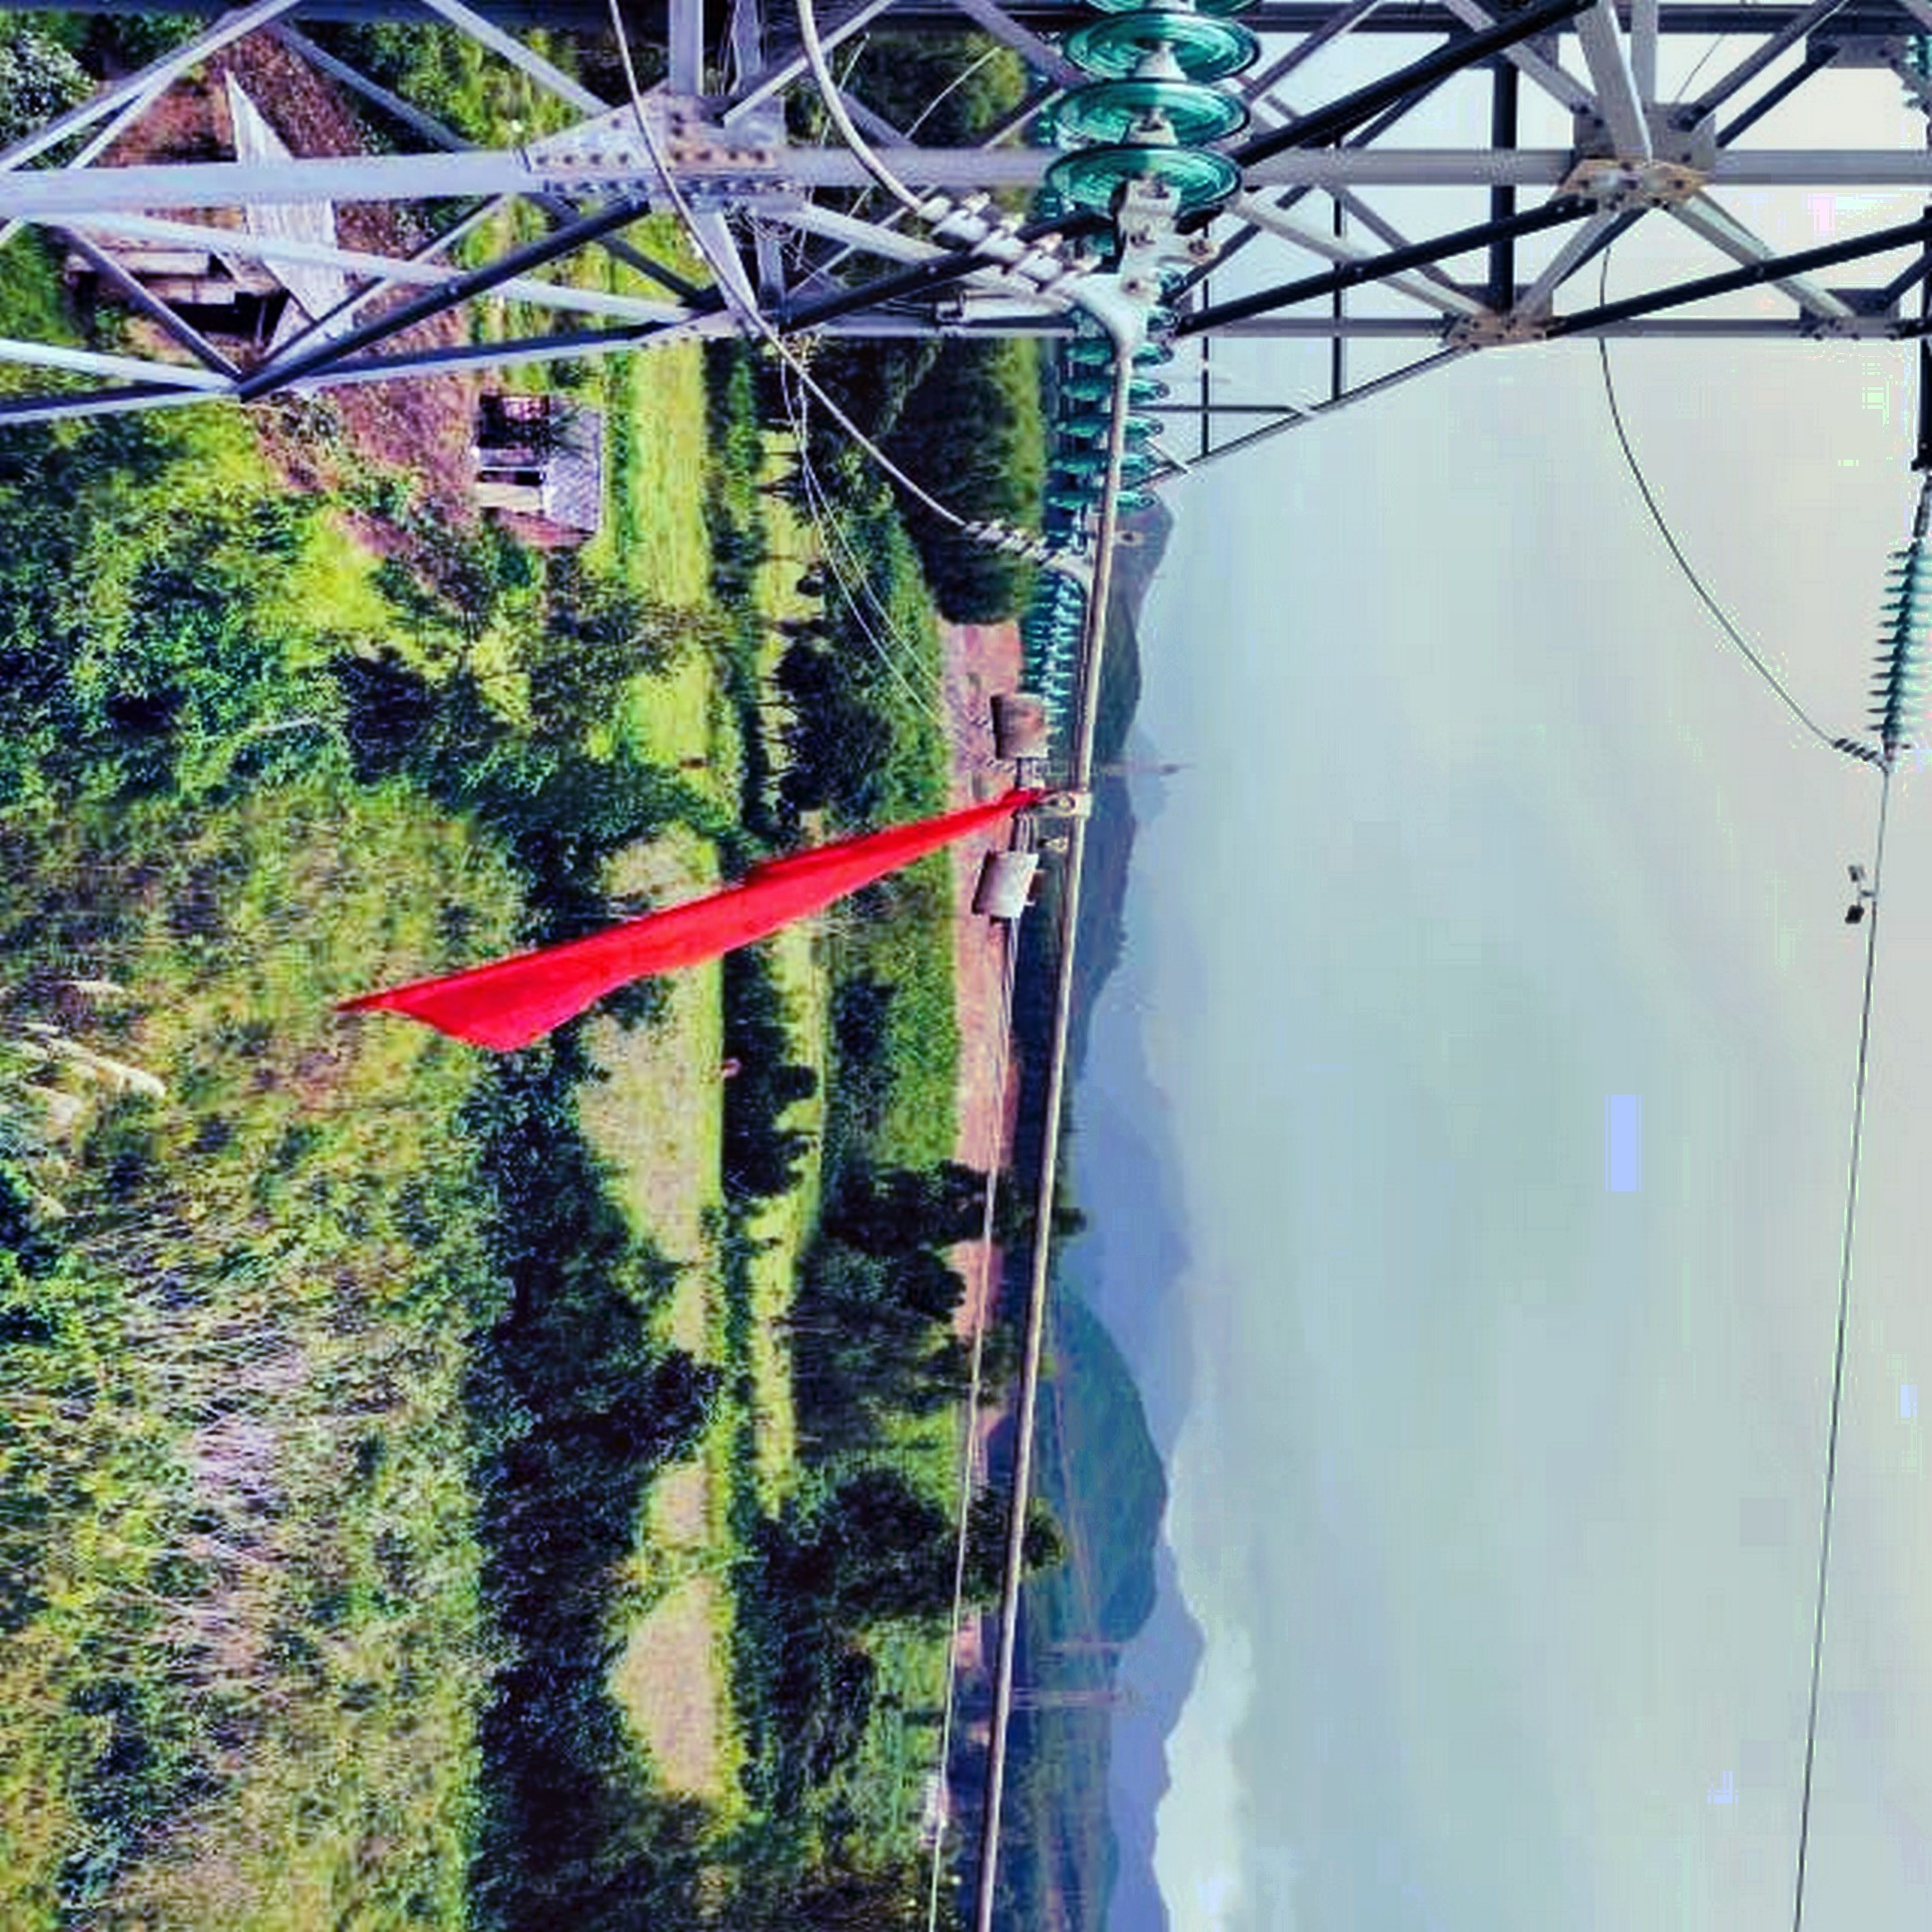wire foreign body: (338, 759, 1106, 1095)
